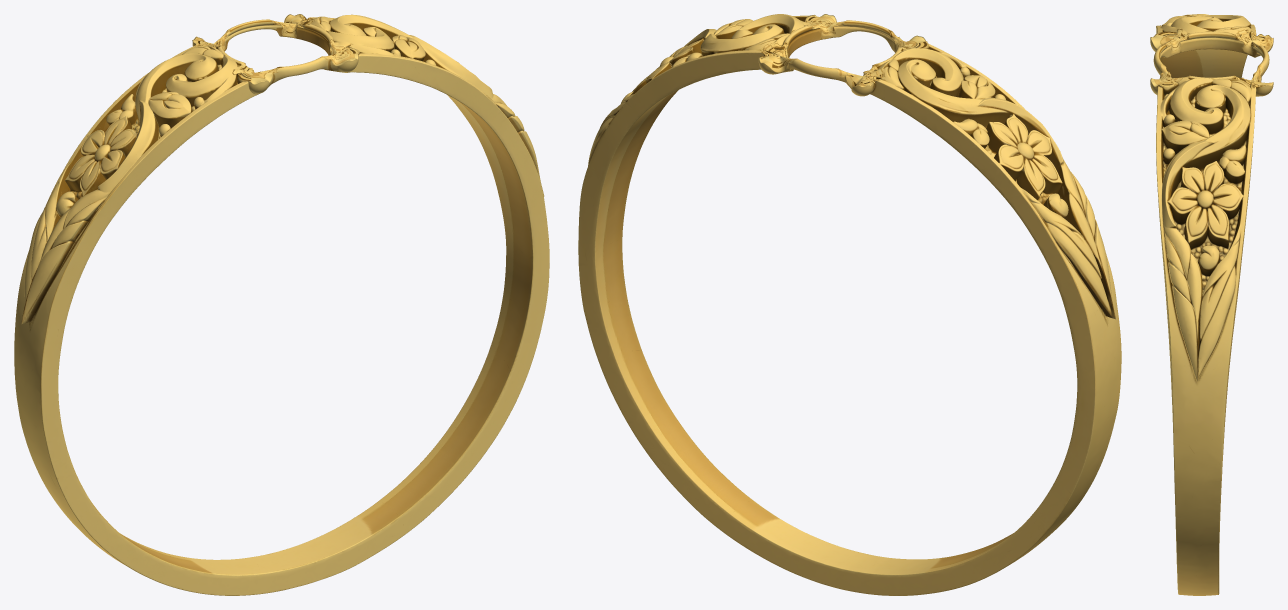
File: nodiamond7.glb
3 views of the same model, side by side, from view 1: azimuth 30°, elevation 25°; view 2: azimuth 150°, elevation 25°; view 3: azimuth 270°, elevation 25° (orthographic). The views are drawn at different scales.
Bounding box in the file's own units: 1.9 × 1.87 × 0.4043.
1 material, 1 textured.
